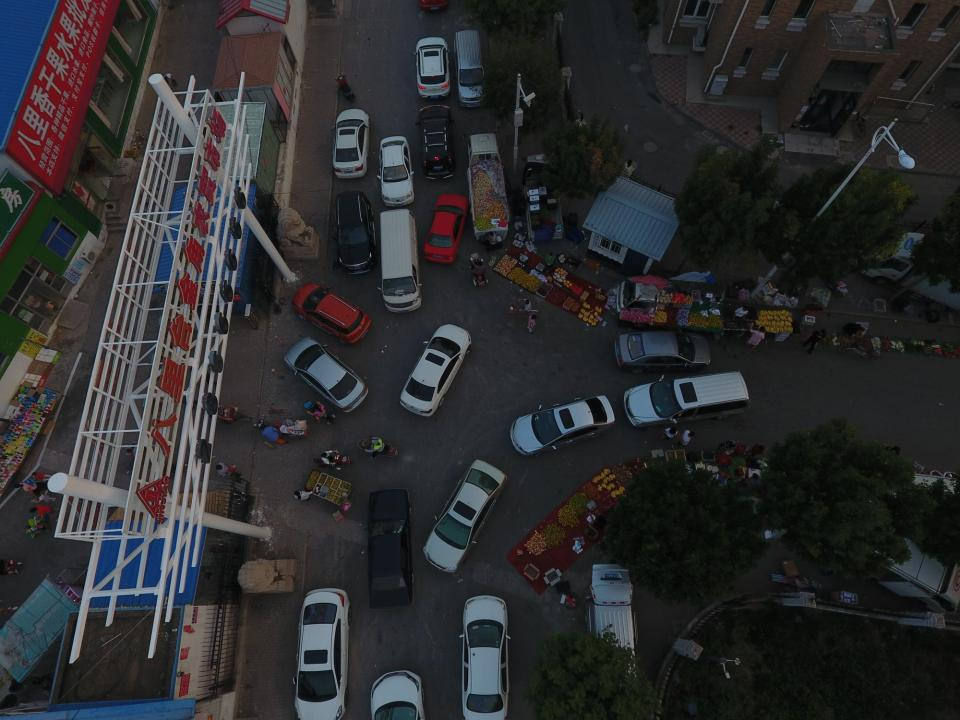car: (422, 459, 507, 573), (292, 588, 349, 720), (400, 324, 472, 416), (363, 486, 414, 611), (460, 595, 511, 720), (511, 395, 615, 456), (284, 337, 368, 412), (291, 284, 371, 344), (615, 327, 711, 370), (753, 194, 836, 237), (334, 191, 374, 275), (423, 194, 467, 263), (416, 105, 456, 180), (332, 109, 369, 179), (377, 136, 414, 206), (414, 37, 450, 98)
truck: (844, 510, 960, 616), (859, 231, 957, 320), (466, 132, 510, 242), (616, 278, 720, 316), (524, 154, 564, 243)
van: (623, 370, 752, 431), (586, 563, 639, 700), (377, 209, 422, 313), (454, 30, 487, 107)
